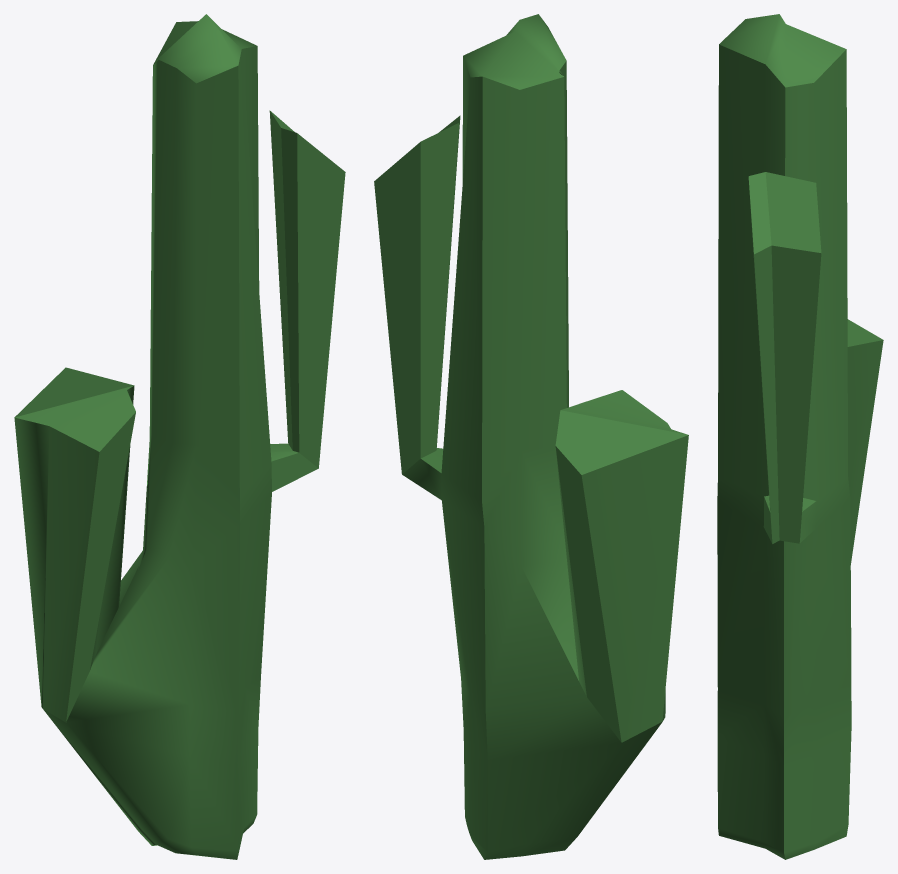
3 views of the same model, side by side, from view 1: azimuth 30°, elevation 25°; view 2: azimuth 150°, elevation 25°; view 3: azimuth 270°, elevation 25° (orthographic).
Parts seen in each view (by area): view 1: pCylinder2; view 2: pCylinder2; view 3: pCylinder2.
Boxes of the visible parts, x1,y1,x2,y2 form: pCylinder2: (14, 14, 345, 859); pCylinder2: (374, 14, 688, 859); pCylinder2: (717, 14, 883, 859).
Bounding box in the file's own units: 10.14 × 26 × 4.76.
